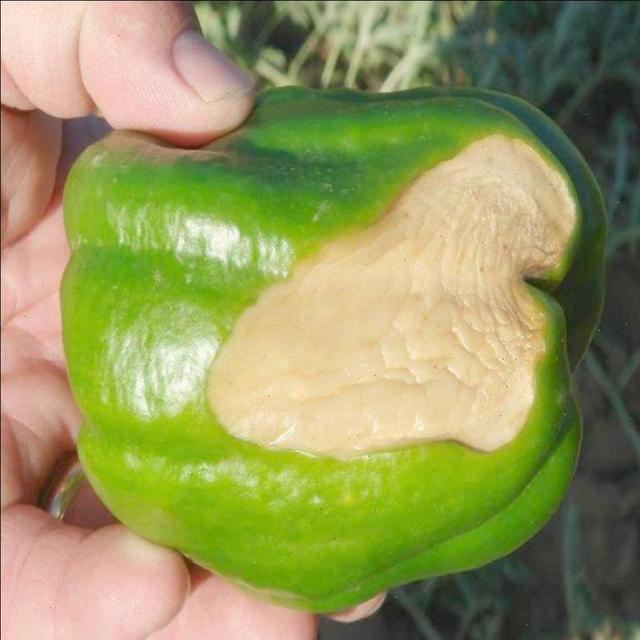Sunscald Fruit: (134, 85, 379, 341)
